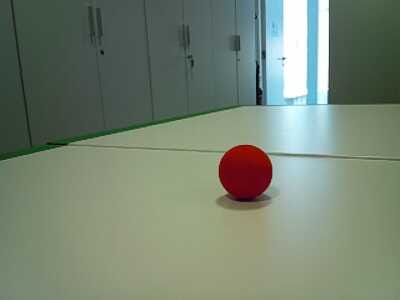bola_cerca: (219, 145, 273, 204)
